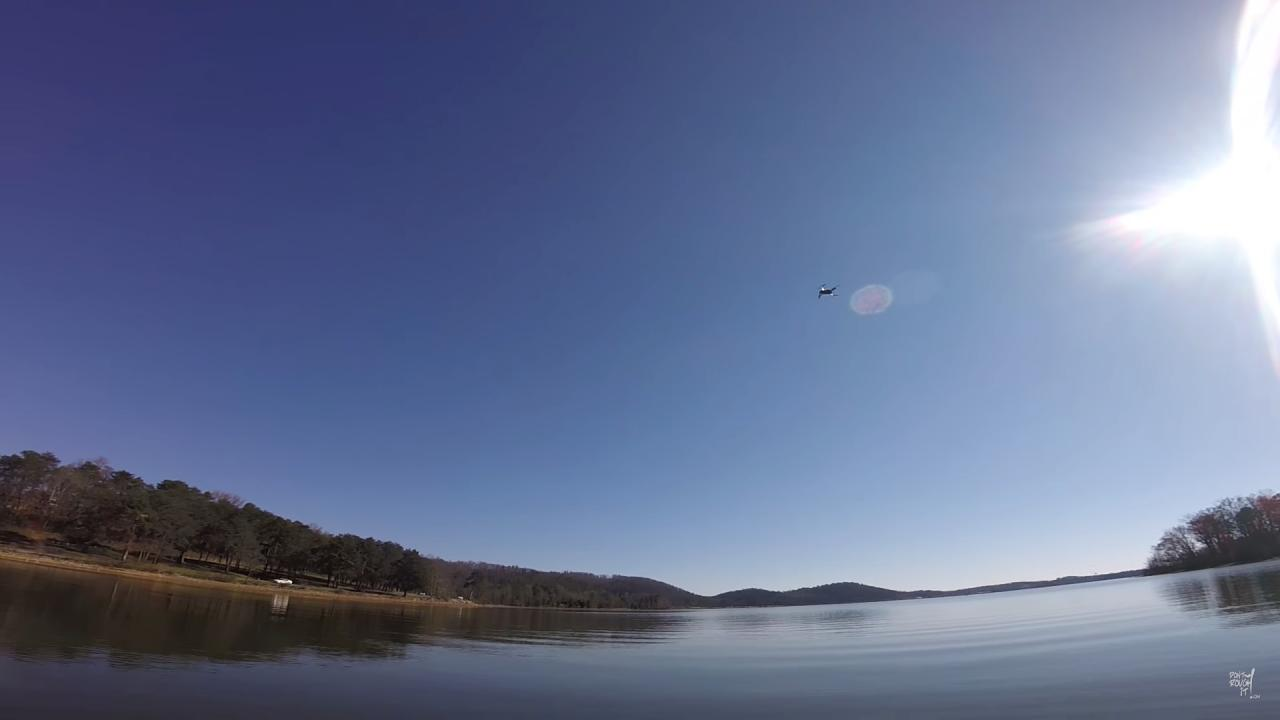Drone: (805, 275, 848, 308)
